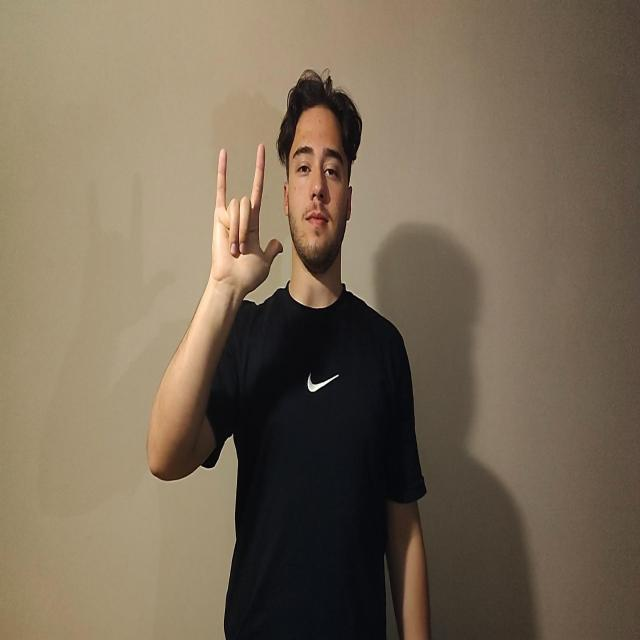iloveyou: (210, 142, 283, 300)
